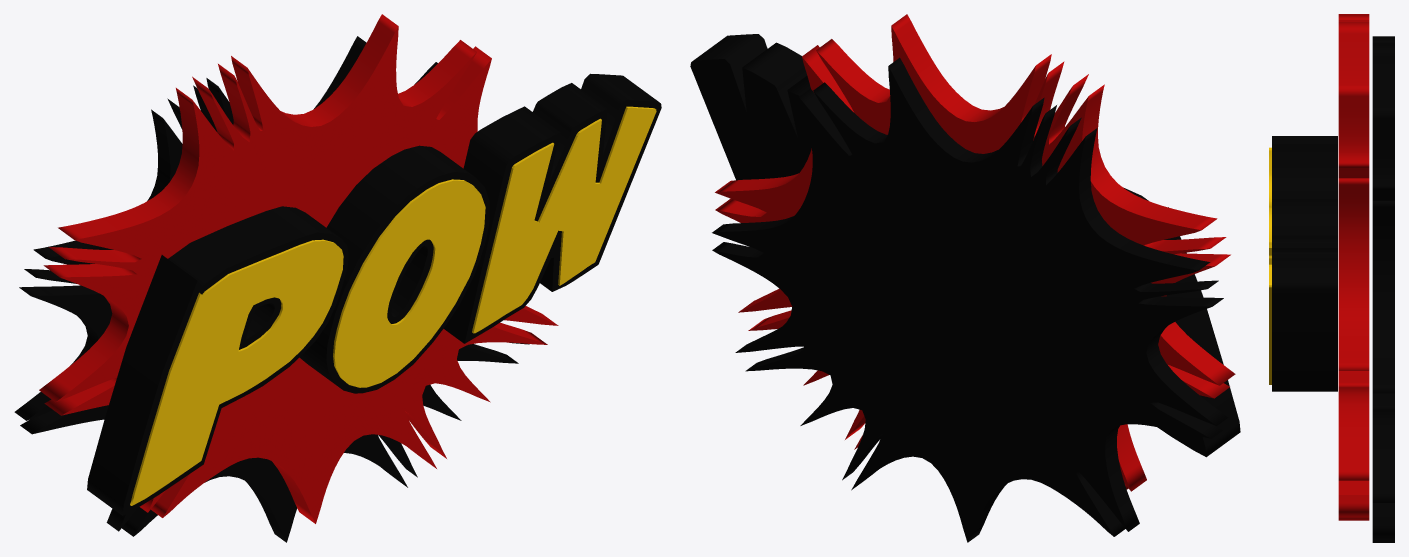
The model's file is pow.glb.
3 views of the same model, side by side, from view 1: azimuth 30°, elevation 25°; view 2: azimuth 150°, elevation 25°; view 3: azimuth 270°, elevation 25° (orthographic). The views are drawn at different scales.
Parts seen in each view (by area): view 1: Mesh_0.001; view 2: Mesh_0.001; view 3: Mesh_0.001.
Boxes of the visible parts, box(x1,y1,x2,y2) form: Mesh_0.001: box(14, 14, 661, 542); Mesh_0.001: box(690, 14, 1240, 542); Mesh_0.001: box(1269, 14, 1394, 542).
Size of the model in its own units: 228 by 190 by 46.41.
